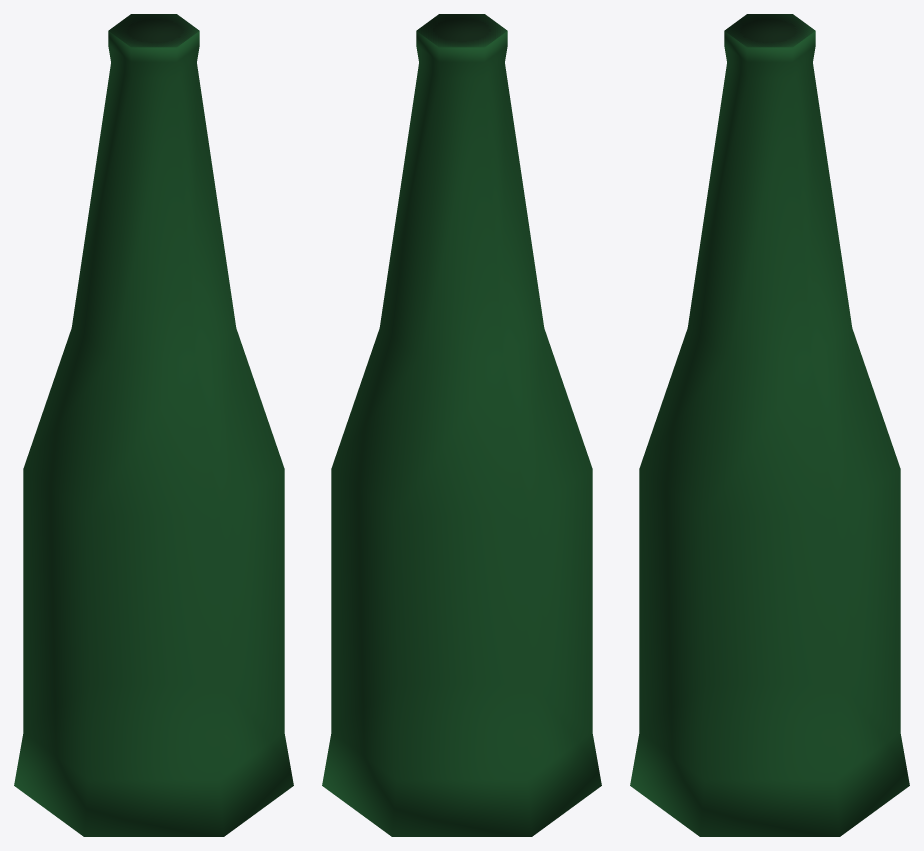
File: glassbottle_2.glb
The picture shows the model from 3 angles, left to right: view 1: azimuth 30°, elevation 25°; view 2: azimuth 150°, elevation 25°; view 3: azimuth 270°, elevation 25°; orthographic projection.
Visible parts, largest first — view 1: GlassBottle_2; view 2: GlassBottle_2; view 3: GlassBottle_2.
Boxes of the visible parts, left/top/right/bottom form: GlassBottle_2: left=14, top=14, right=293, bottom=836; GlassBottle_2: left=322, top=14, right=601, bottom=836; GlassBottle_2: left=630, top=14, right=909, bottom=836.
Bounding box in the file's own units: 0.2436 × 0.8369 × 0.2812.
1 material, 1 textured.
